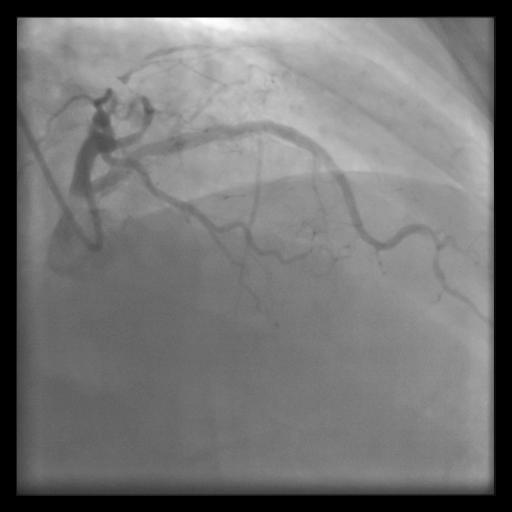Stenosis: (127, 146, 163, 161)
